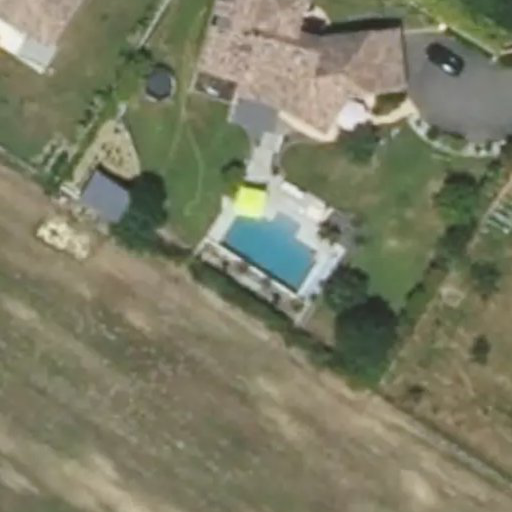pool: (197, 237, 314, 246)
